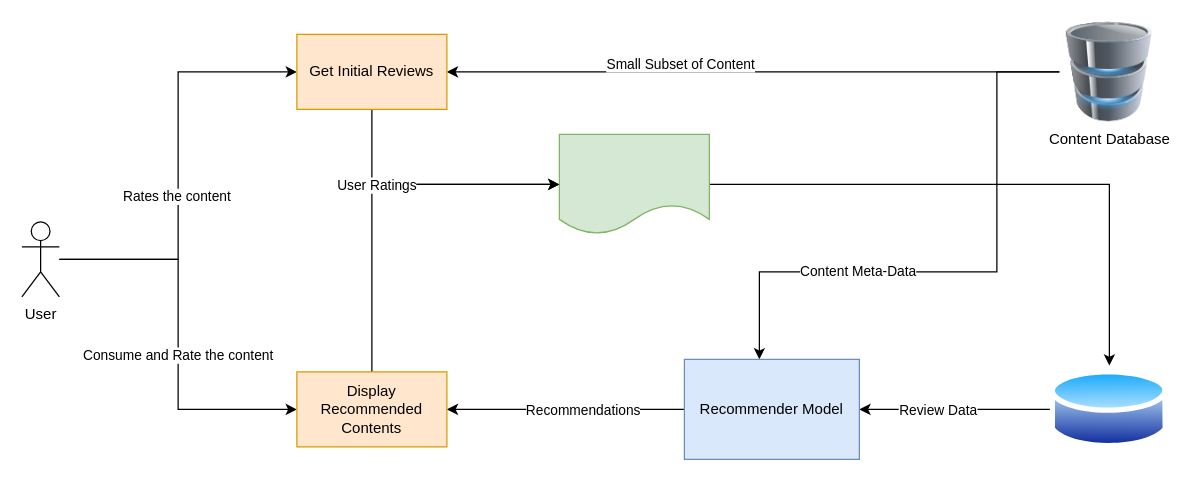
The diagram is 1194 pixels wide and 504 high, and some of its shapes have lost their labels. Here are the shapes that lost their labels. From the top down, the centre of each, then its label:
At point 633,183: "User Ratings on Content".
At point 1109,408: "Reviews Database".
